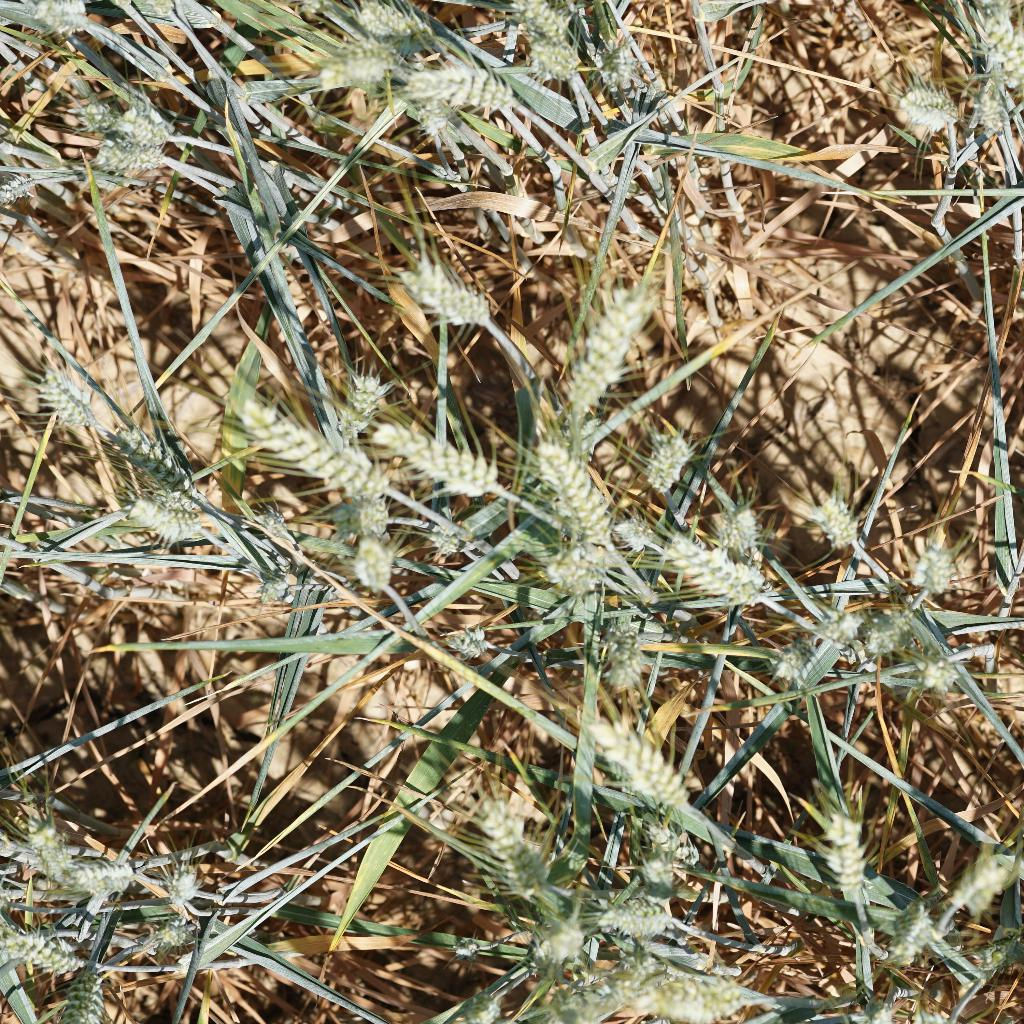0-0: (231, 391, 399, 504), (545, 276, 656, 414), (365, 421, 514, 508), (642, 527, 784, 615), (519, 443, 620, 550), (586, 721, 699, 810), (470, 795, 557, 908), (98, 411, 212, 489), (389, 251, 494, 332), (631, 957, 751, 1024), (103, 479, 209, 553), (392, 58, 515, 120), (814, 792, 877, 903), (26, 354, 107, 434), (627, 422, 707, 501), (311, 40, 410, 97), (901, 534, 975, 604), (627, 818, 705, 882), (71, 92, 179, 138), (66, 841, 148, 900), (18, 802, 77, 884), (32, 0, 108, 62), (538, 972, 627, 1024), (595, 892, 683, 944), (317, 366, 385, 433), (884, 75, 959, 135), (130, 909, 216, 960), (806, 488, 871, 553), (343, 520, 400, 593), (0, 922, 70, 980), (96, 127, 174, 178), (938, 855, 1013, 908), (969, 26, 1024, 98), (593, 615, 647, 688), (702, 507, 777, 556), (433, 983, 519, 1024), (53, 960, 107, 1024), (347, 0, 433, 40), (909, 645, 974, 694), (238, 566, 305, 613), (516, 914, 583, 960), (881, 903, 931, 964), (974, 59, 1012, 137), (590, 37, 644, 91), (416, 521, 482, 565), (967, 0, 1020, 52), (404, 92, 454, 145), (602, 507, 657, 555), (856, 613, 918, 654), (518, 36, 583, 75), (765, 635, 811, 690), (444, 621, 494, 671), (156, 864, 205, 912), (811, 608, 860, 653), (245, 500, 294, 544), (0, 165, 49, 207), (515, 0, 567, 33), (443, 935, 484, 965)
